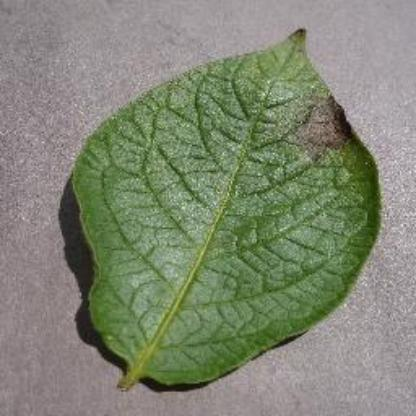Late-Blight: (50, 24, 392, 394)
